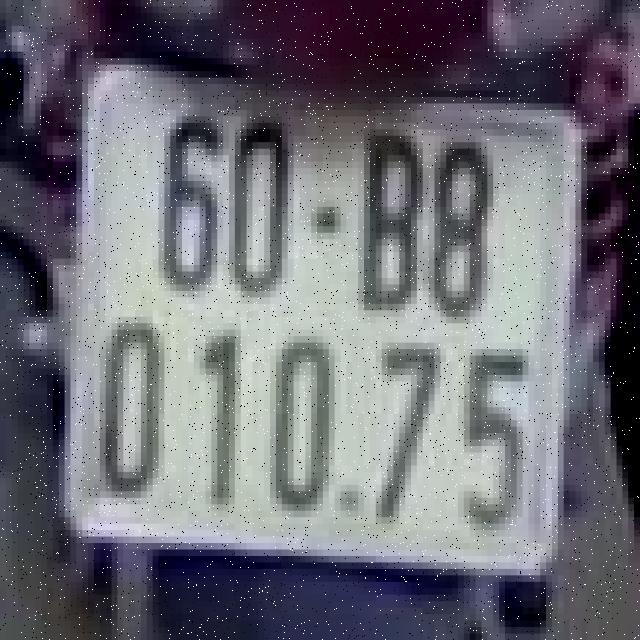0: (97, 310, 173, 504), (220, 113, 297, 301), (267, 323, 338, 517)
1: (188, 317, 246, 517)
5: (458, 339, 534, 540)
6: (153, 104, 223, 298)
7: (373, 333, 443, 533)
8: (429, 130, 499, 323)
B: (352, 116, 429, 324)
